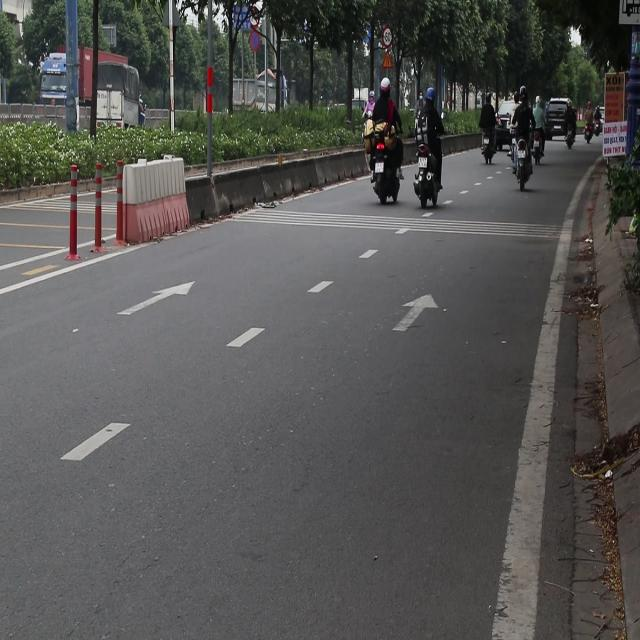car: (480, 96, 522, 142), (544, 98, 574, 141)
motorbike: (368, 123, 404, 205), (506, 131, 536, 202), (411, 145, 440, 208), (481, 129, 492, 176), (582, 113, 592, 143)
truck: (210, 46, 297, 150), (38, 50, 142, 132), (92, 67, 150, 143)
